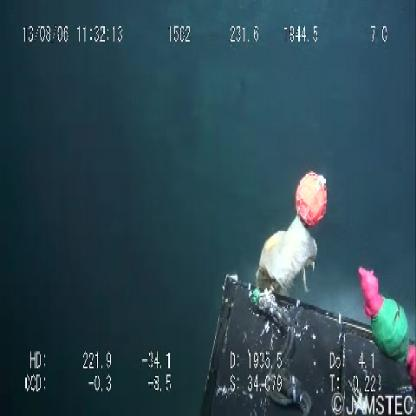Rov: (191, 268, 413, 416)
Rác: (253, 216, 324, 300)
